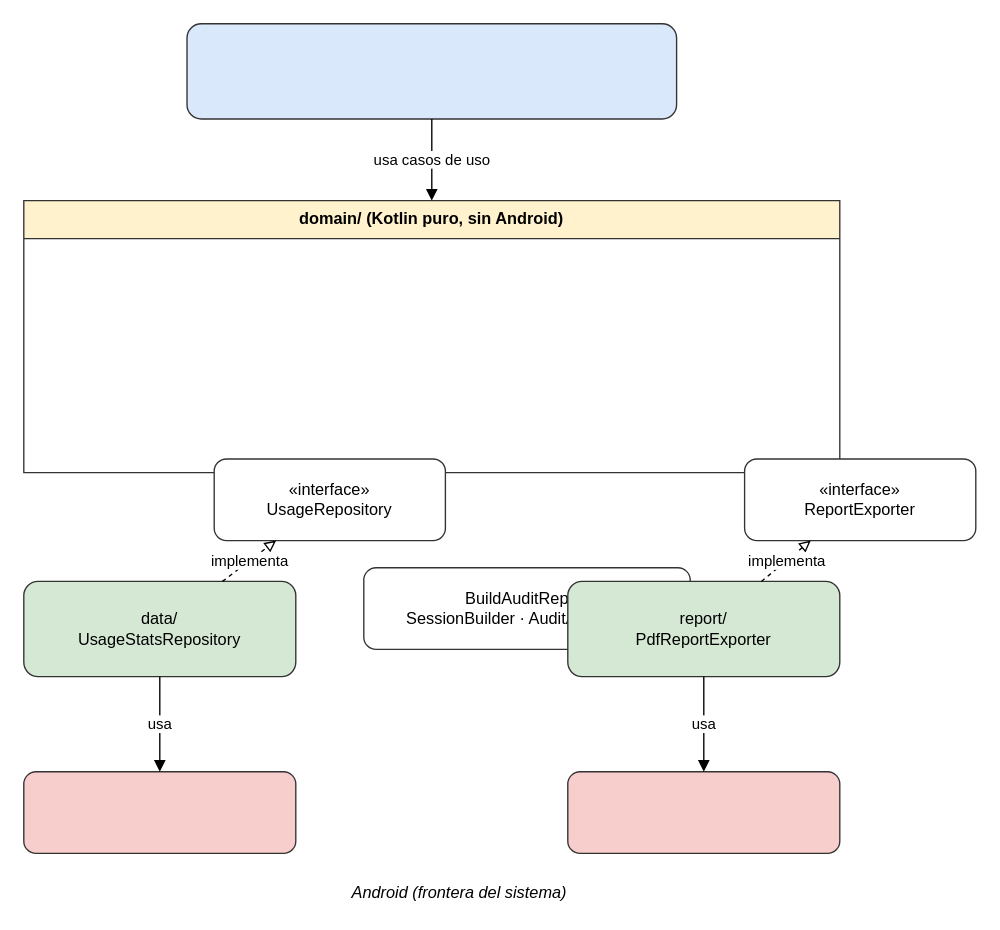
Image size: 1000x930. Some labels were removed from this diagram. Here are the shapes that lost their labels. From the top down, the centre of each, then its label:
point 431,70: ui/ (Compose + ViewModel) Consentimiento · Permiso · Rango · Dashboard
point 159,811: UsageStatsManager PackageManager
point 703,811: MediaStore.Downloads PdfDocument
